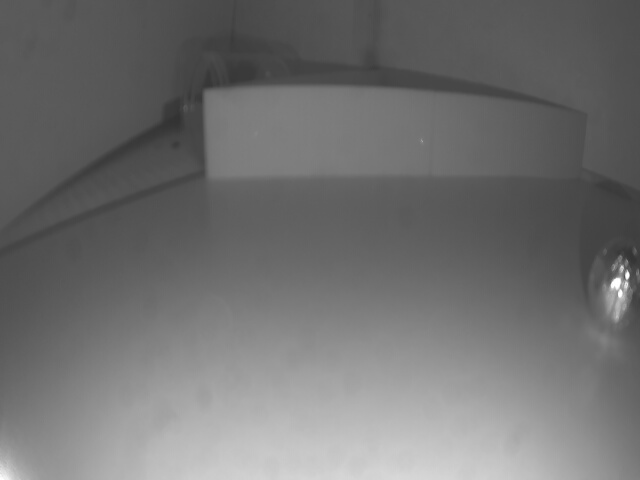Live: (585, 237, 640, 340)
Point: (209, 85, 587, 182)
